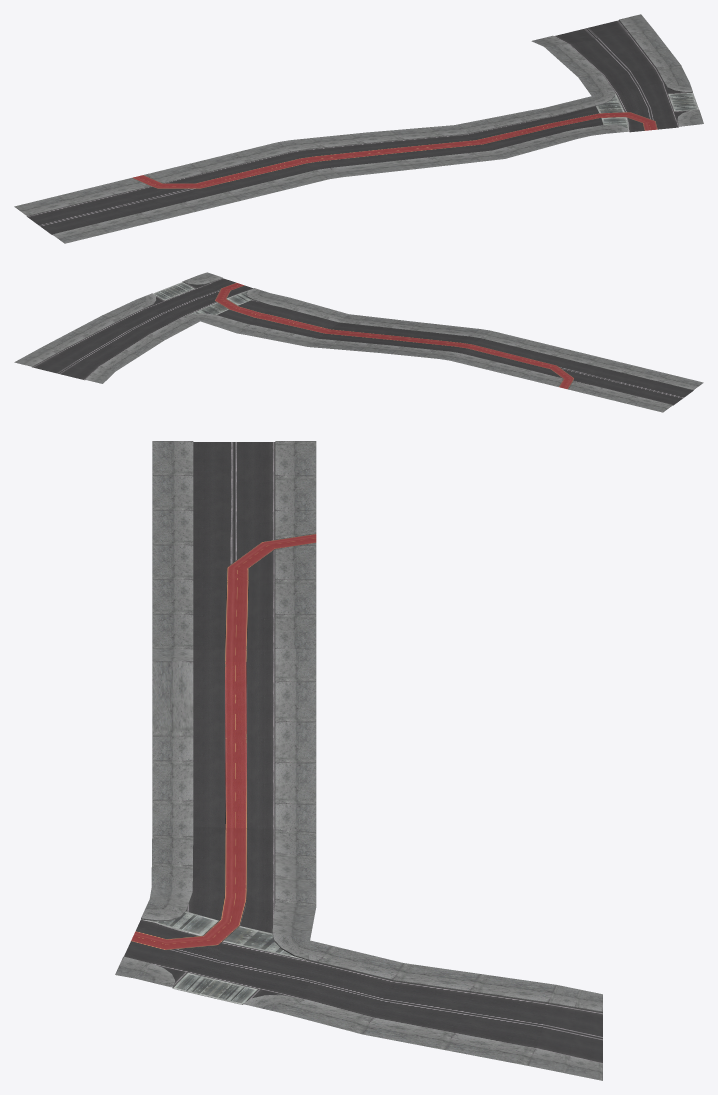
Rendered from roadssfse34.obj.
3 views of the same model, one above another, from view 1: azimuth 30°, elevation 25°; view 2: azimuth 150°, elevation 25°; view 3: azimuth 270°, elevation 25° (orthographic). The views are drawn at different scales.
Visible parts, largest first — view 1: roadsSFSE34; view 2: roadsSFSE34; view 3: roadsSFSE34.
Boxes of the visible parts, <box> form: roadsSFSE34: <box>14,14,703,243</box>; roadsSFSE34: <box>14,272,703,412</box>; roadsSFSE34: <box>115,441,602,1080</box>.
Size of the model in its own units: 163 by 10.43 by 59.49.
4 materials, 4 textured.
